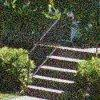stairs: (19, 48, 90, 97)
